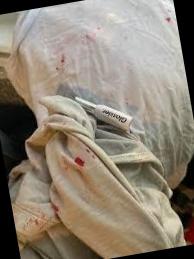blood: (73, 154, 85, 170)
